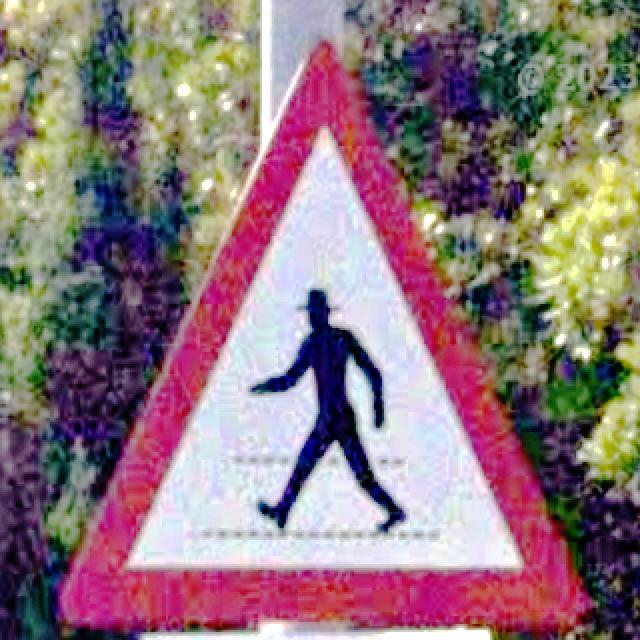pedestriancross: (61, 42, 585, 628)
